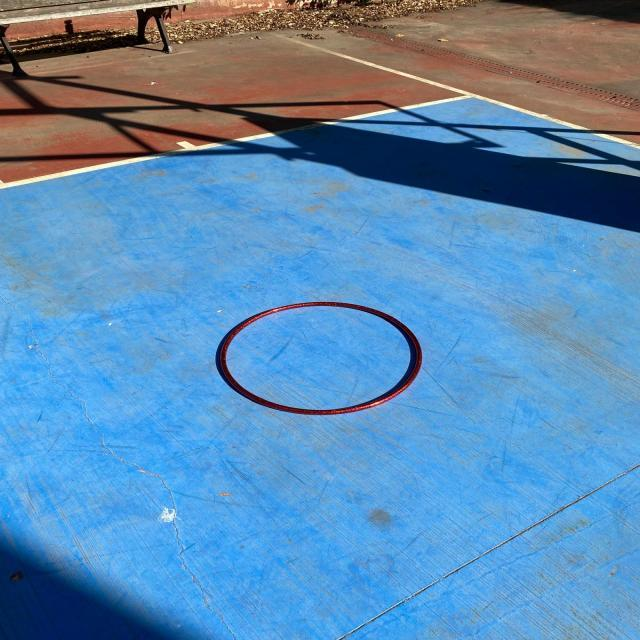Circle: (212, 300, 426, 418)
